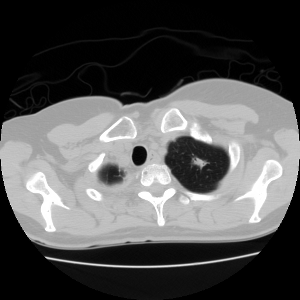nodule: (193, 155, 207, 169)
